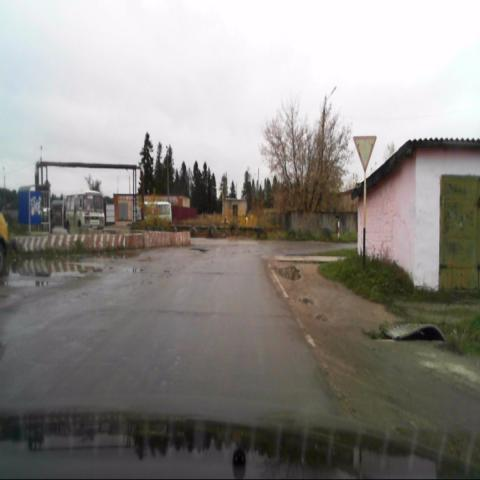2_4: (352, 136, 377, 171)
